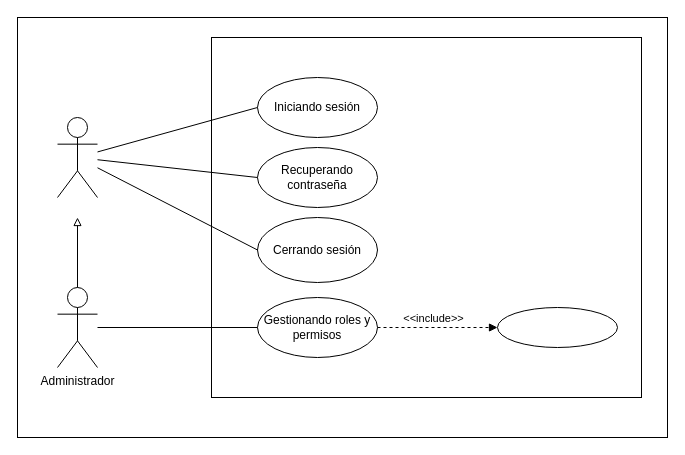
Some shapes in this 685 by 455 pixel diagram are drawn without their labels. The shapes that lost their labels are listed below. From the top down, each one's box as (x1, y1, x2, y2) in pixels, then its label:
(56, 116, 98, 198): Usuario
(210, 36, 642, 398): Sistema BrewFlow
(496, 306, 618, 348): Asignando rol a usuario
